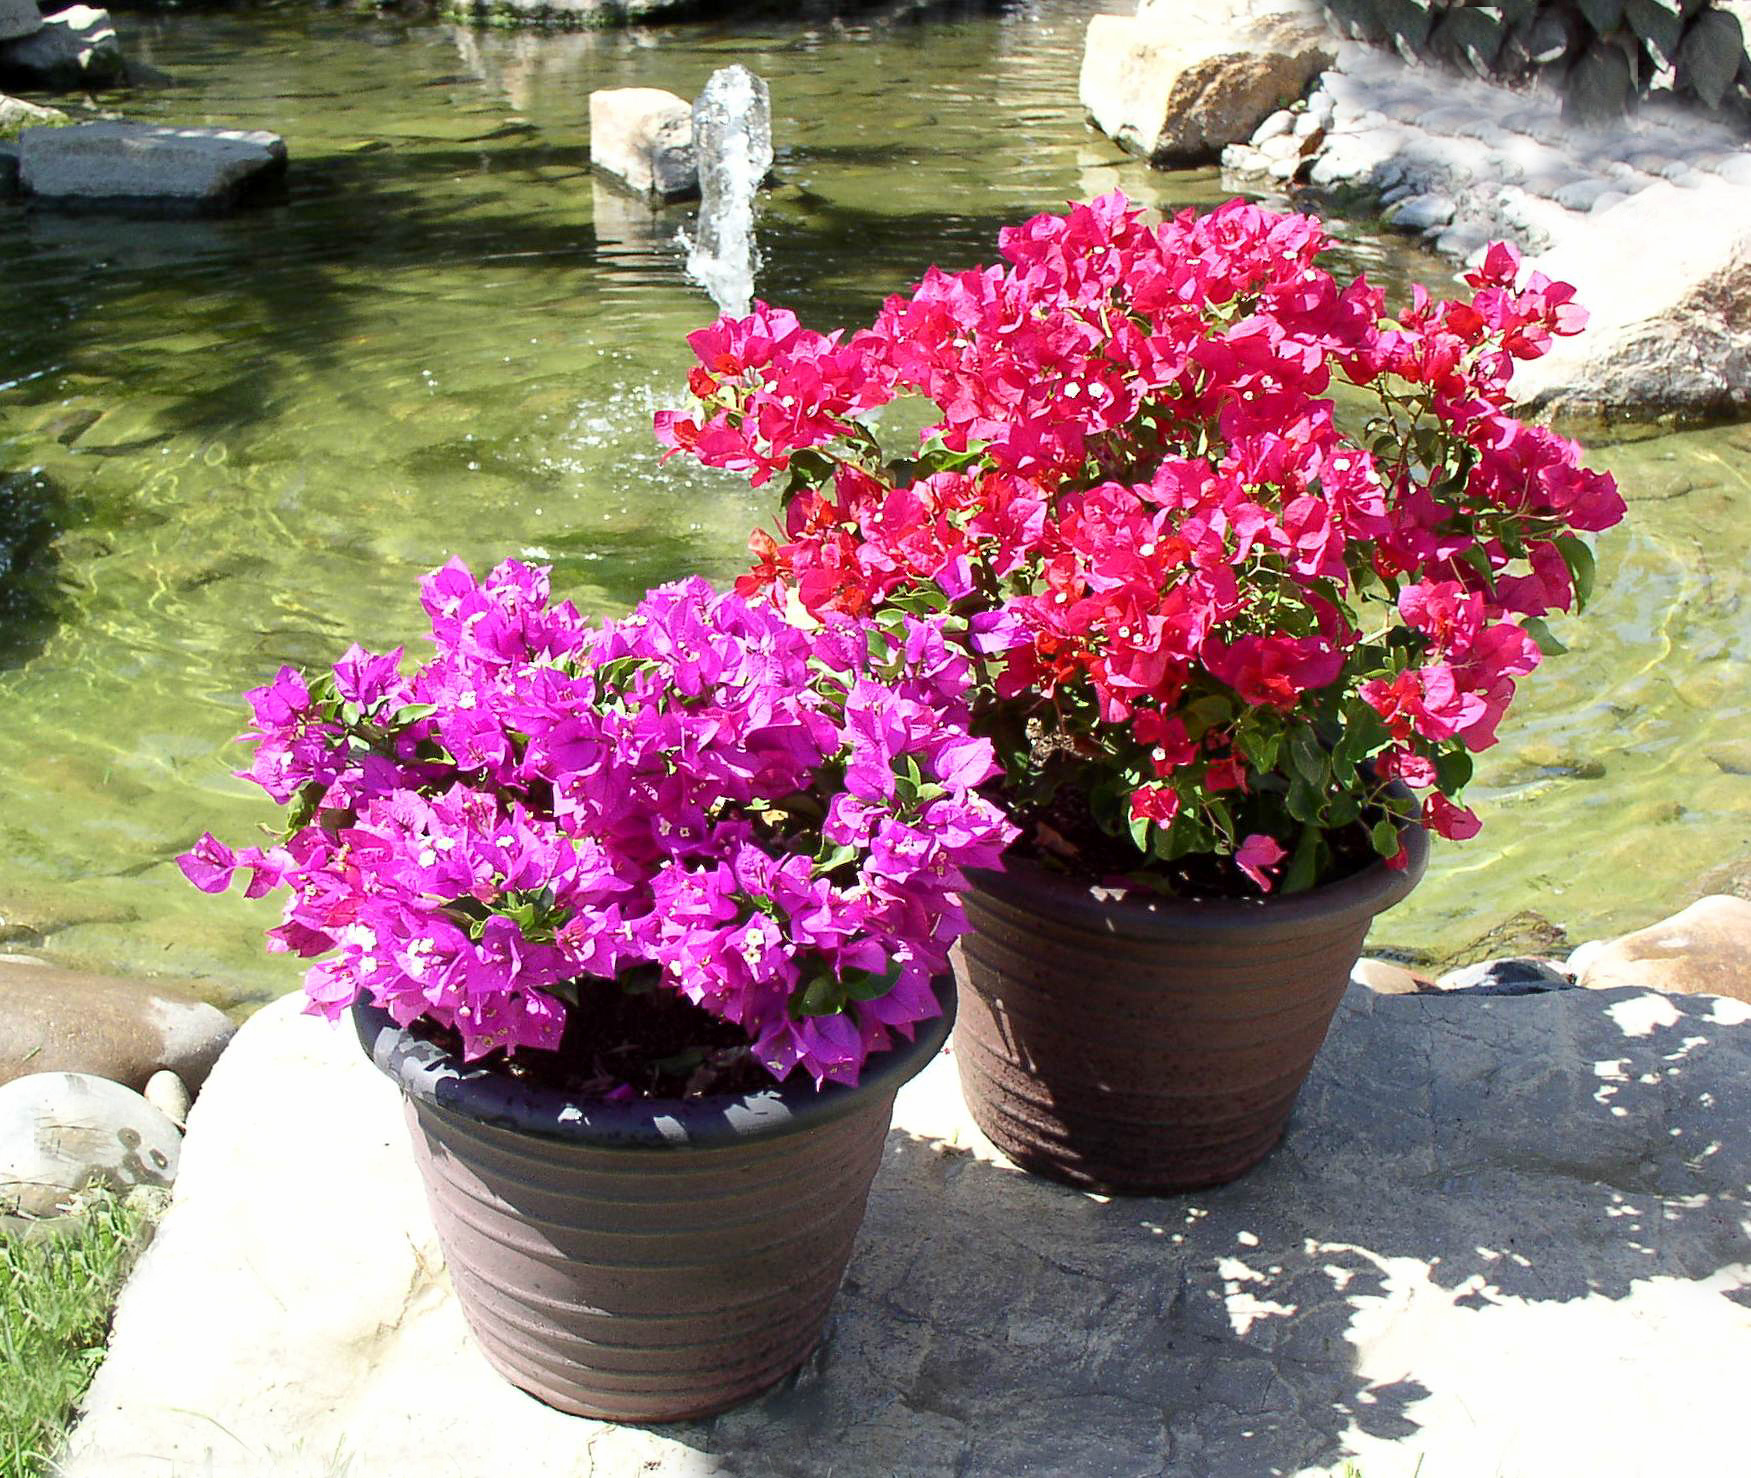bougainvillea: (447, 927, 528, 1009), (774, 856, 834, 940), (726, 911, 788, 979), (1156, 457, 1216, 501)
